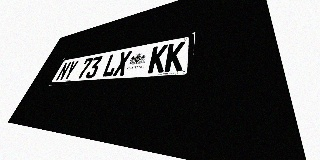3: (85, 56, 103, 79)
7: (76, 57, 94, 79)
K: (164, 41, 185, 72), (147, 44, 168, 74)
L: (101, 53, 120, 77)
N: (55, 61, 72, 81)
X: (112, 51, 132, 76)
Y: (62, 60, 79, 80)
